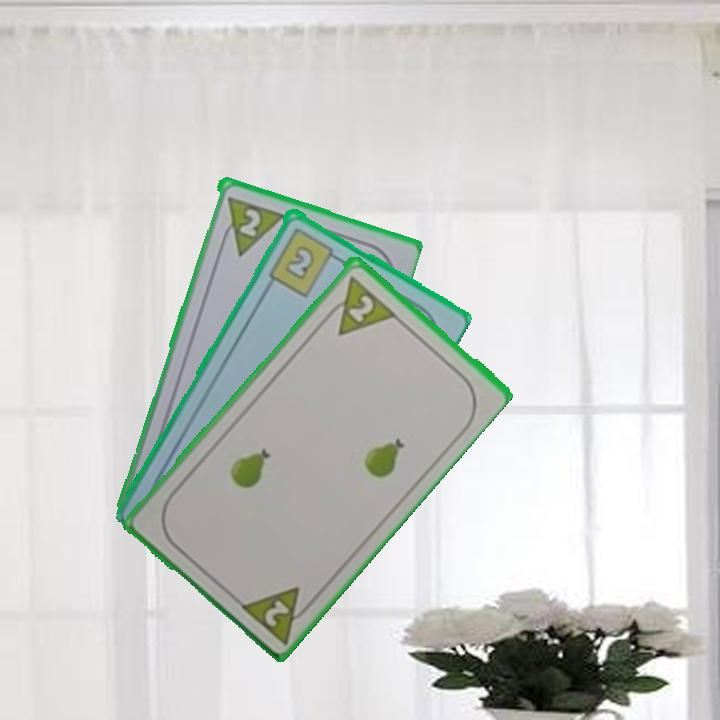2b: (265, 223, 343, 299)
2p: (235, 582, 319, 646), (344, 290, 377, 325), (235, 204, 264, 239)
